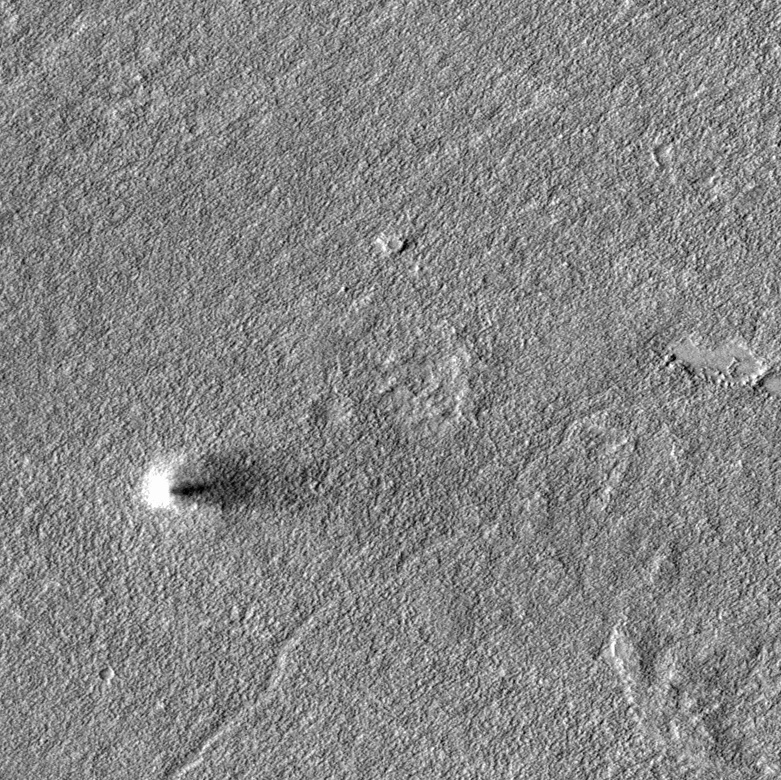dust_devil: (139, 442, 328, 512)
